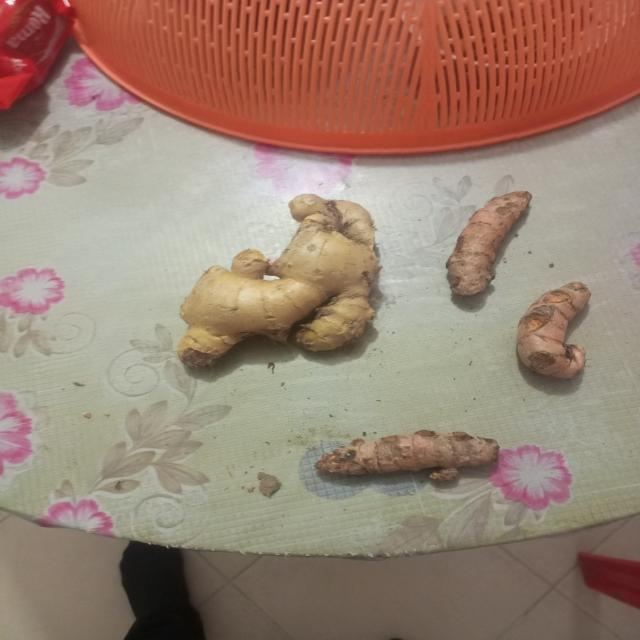ginger: (184, 198, 384, 364), (317, 430, 504, 477), (452, 189, 528, 293), (520, 284, 590, 378)
